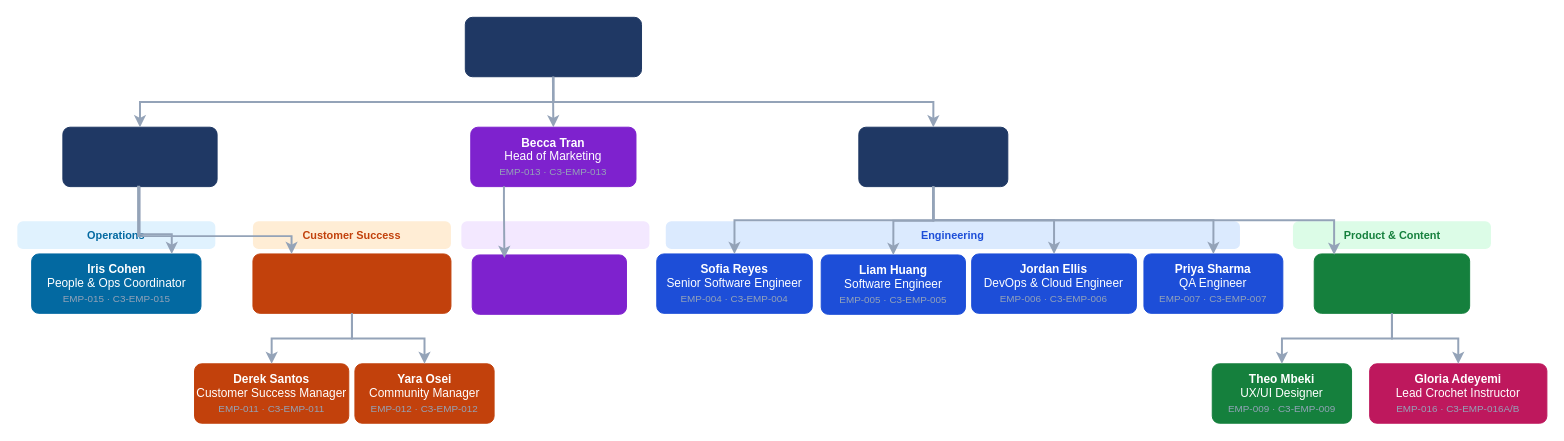
The diagram is 1564 pixels wide and 441 high, and some of its shapes have lost their labels. The centre of each missing label's shape, as x and y in pixels:
Camille Fontaine Head of Product EMP-008 · C3-EMP-008: pixel 1391 283
Devon Nakamura Chief Technology Officer EMP-003 · C3-EMP-003: pixel 933 156
Marcus Okafor CFO & COO EMP-002 · C3-EMP-002: pixel 139 156
Marketing: pixel 555 234
Noel Park Content Creator & Social EMP-014 · C3-EMP-014: pixel 548 284
Penny Walsh Chief Executive Officer EMP-001 · C3-EMP-001: pixel 553 46
Rachel Kim Head of Customer Success EMP-010 · C3-EMP-010: pixel 351 283
